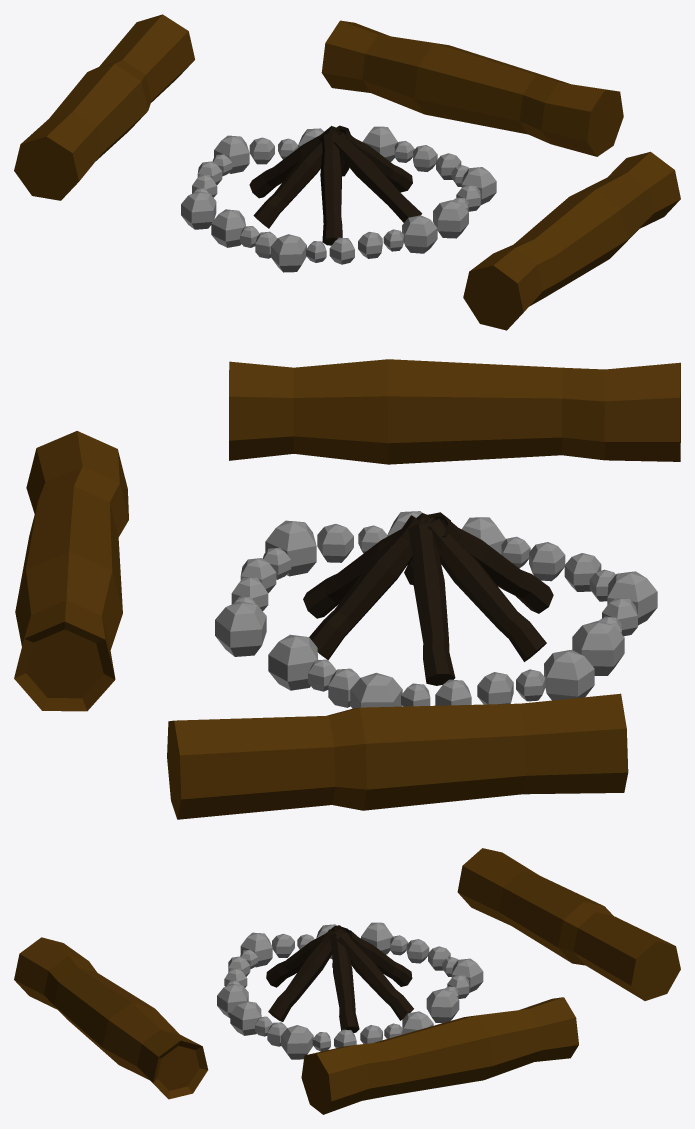
The model's file is CampFire.fbx.
3 views of the same model, one above another, from view 1: azimuth 30°, elevation 25°; view 2: azimuth 150°, elevation 25°; view 3: azimuth 270°, elevation 25° (orthographic). The views are drawn at different scales.
Visible parts, largest first — view 1: CampFire; view 2: CampFire; view 3: CampFire.
Boxes of the visible parts, bbox=[...] form: CampFire: bbox=[14, 14, 680, 330]; CampFire: bbox=[14, 359, 680, 819]; CampFire: bbox=[14, 848, 680, 1114].
Size of the model in its own units: 611 by 98.12 by 762.
